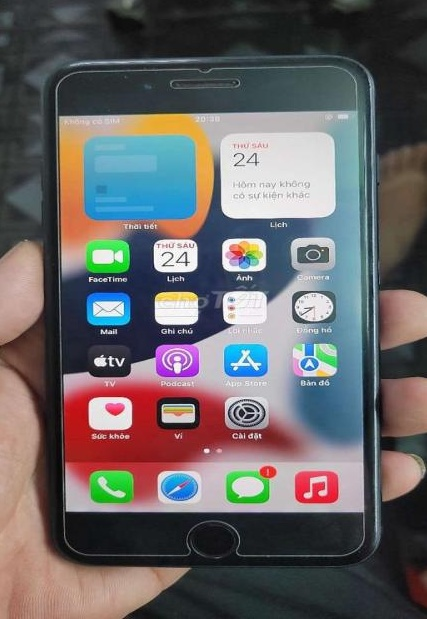scratch: (337, 60, 378, 112), (368, 194, 382, 331), (348, 512, 385, 557), (64, 57, 205, 67), (115, 72, 127, 81)
